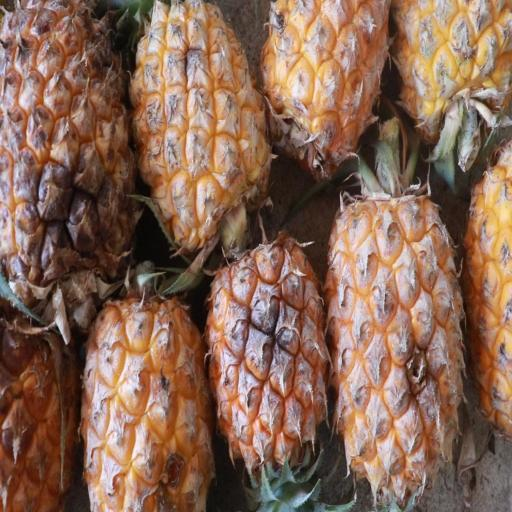Pineapple - v8 v1: (0, 0, 150, 304), (324, 193, 464, 512), (202, 227, 334, 512), (126, 0, 276, 246), (78, 275, 211, 512), (258, 0, 392, 172), (392, 0, 502, 166), (0, 293, 83, 512)
